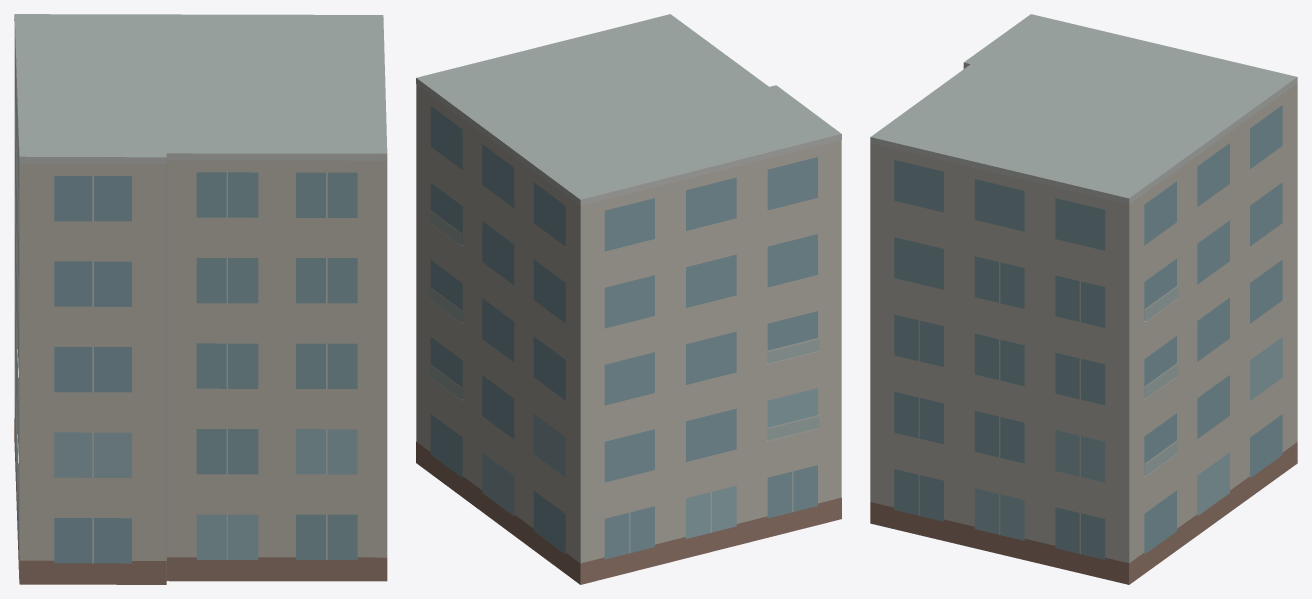
Rendered from survey-upis-33006424.glb.
3 views of the same model, side by side, from view 1: azimuth 30°, elevation 25°; view 2: azimuth 150°, elevation 25°; view 3: azimuth 270°, elevation 25° (orthographic). The views are drawn at different scales.
Parts seen in each view (by area): view 1: survey-upis-33006424.tmp; view 2: survey-upis-33006424.tmp; view 3: survey-upis-33006424.tmp.
Part boxes in pixels (x1,y1,x2,y2): survey-upis-33006424.tmp: [14, 14, 387, 584]; survey-upis-33006424.tmp: [416, 14, 841, 584]; survey-upis-33006424.tmp: [870, 14, 1297, 584].
Size of the model in its own units: 15.67 by 15.3 by 15.33.
